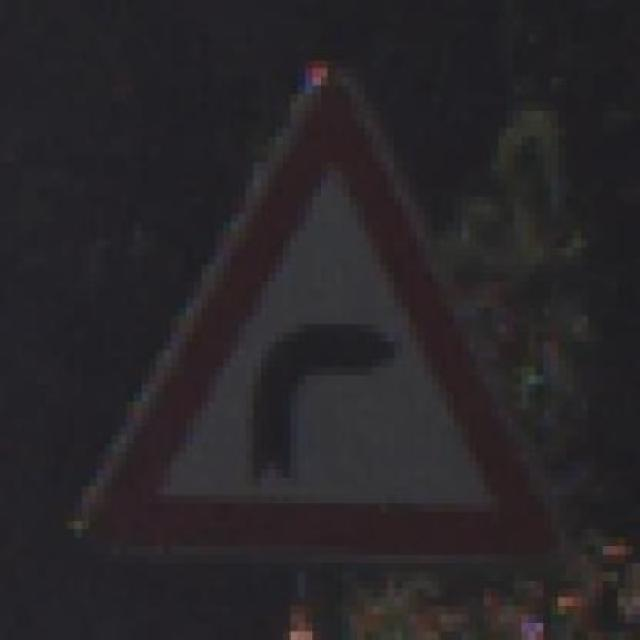Dangerous Rright Curve Ahead: (59, 51, 566, 580)
